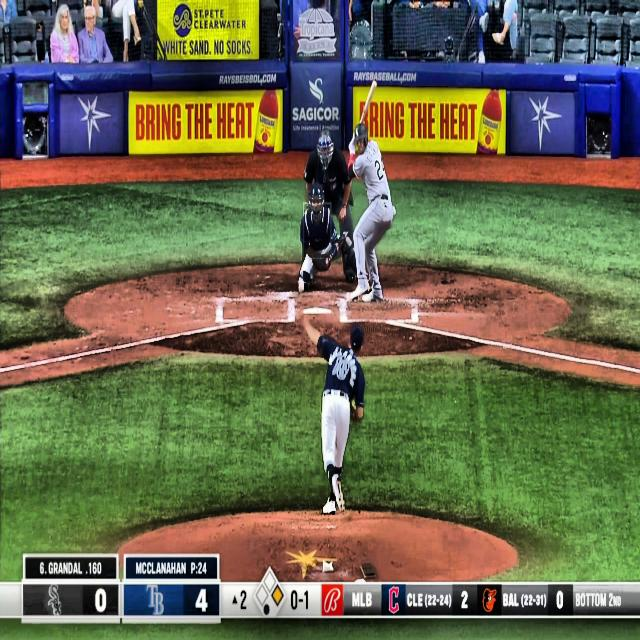baseball: (298, 277, 304, 293)
